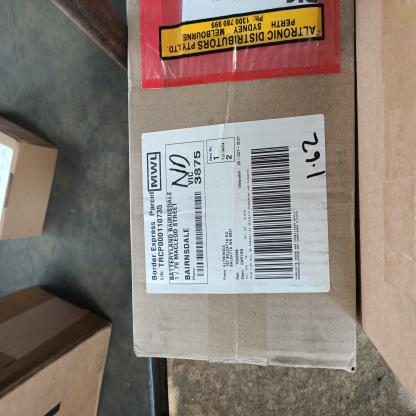label: (138, 112, 338, 313)
package: (129, 0, 357, 368), (1, 285, 111, 416), (0, 114, 58, 244)
